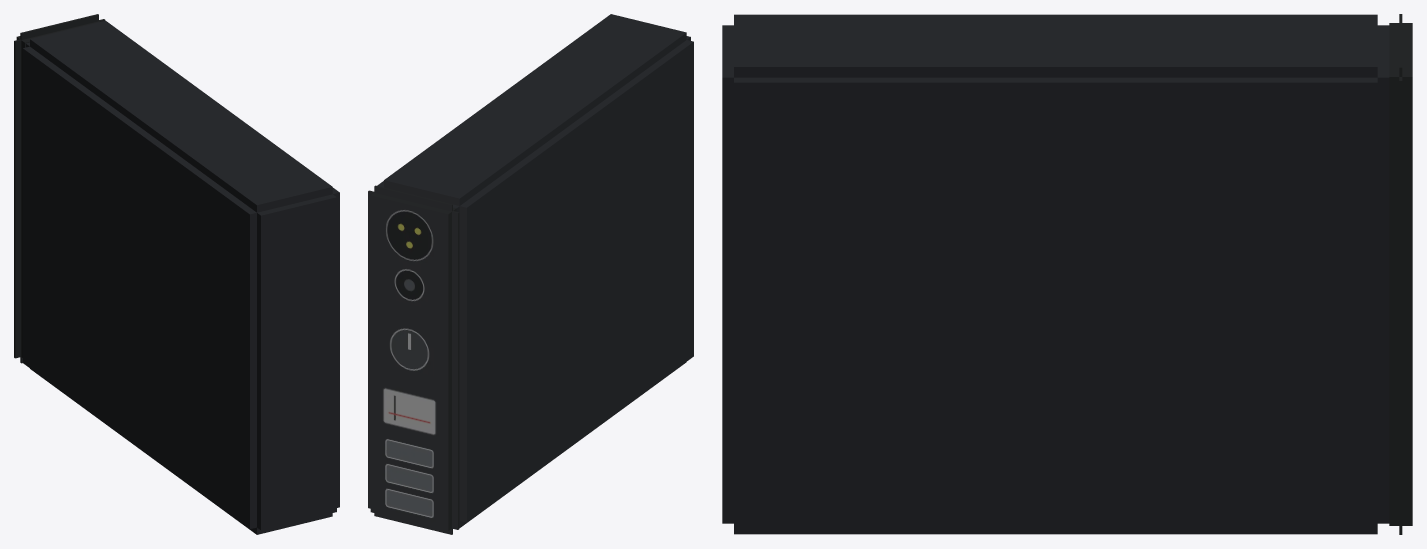
File: api-512c.glb
3 renders of one model, left to right at view 1: azimuth 30°, elevation 25°; view 2: azimuth 150°, elevation 25°; view 3: azimuth 270°, elevation 25°, orthographic. The views are drawn at different scales.
Visible parts, largest first — view 1: api-512c-body; view 2: api-512c-body; view 3: api-512c-body.
Boxes of the visible parts, box(x1,y1,x2,y2) form: api-512c-body: box(14, 14, 339, 534); api-512c-body: box(368, 14, 693, 534); api-512c-body: box(722, 14, 1412, 534).
Bounding box in the file's own units: 0.038 × 0.133 × 0.178.
Materials: 1 (1 with a texture image).
